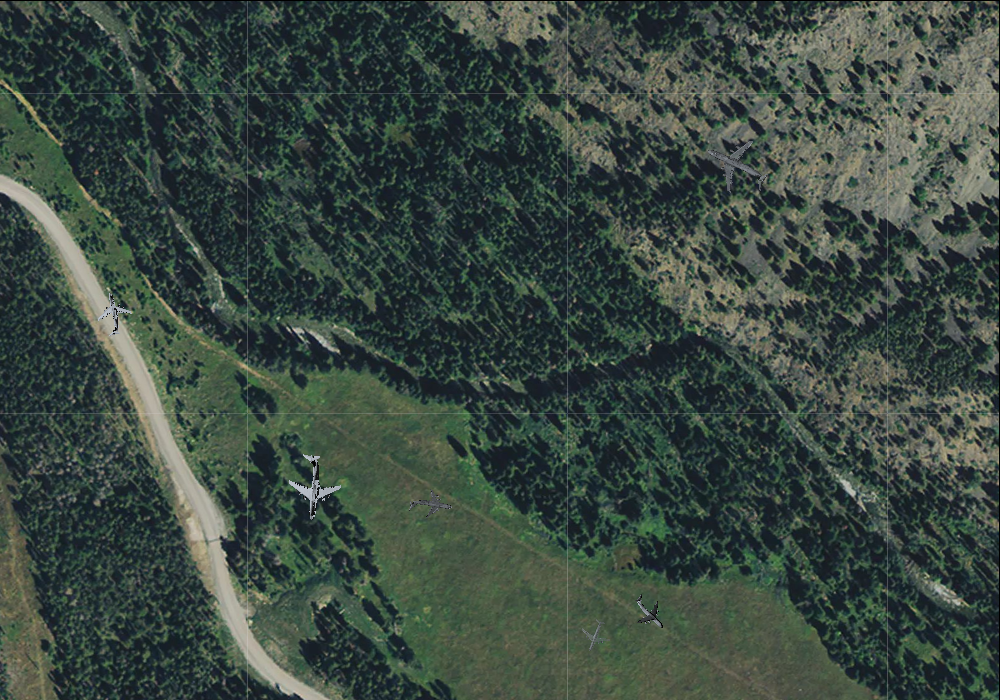plane: (694, 123, 780, 208), (278, 451, 346, 523), (623, 586, 676, 639), (88, 288, 136, 339), (406, 484, 455, 527), (575, 615, 615, 657)
